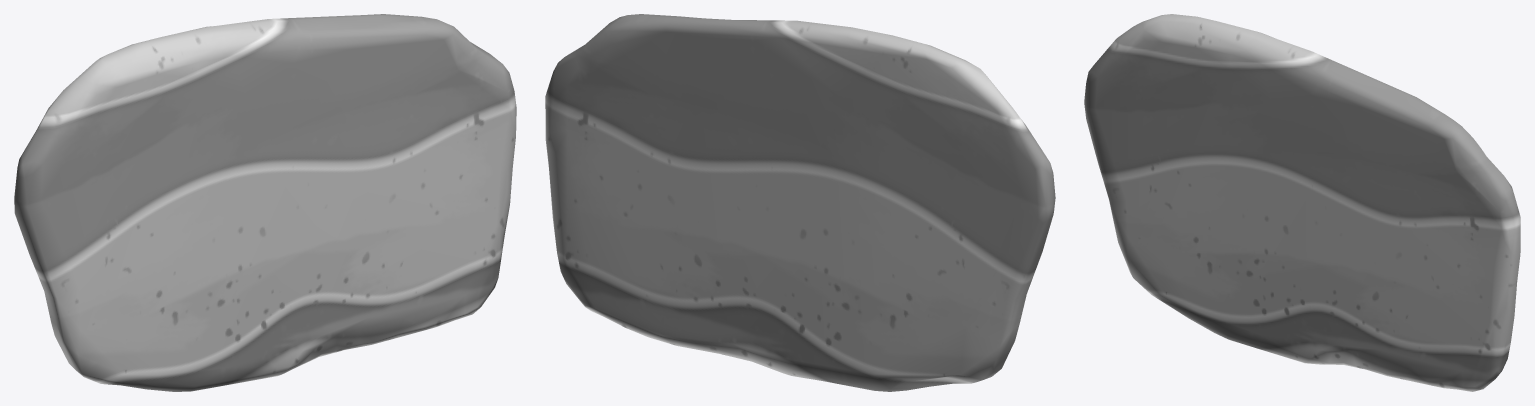
The model's file is SM_UI_BGLobby_Rules.fbx.
3 views of the same model, side by side, from view 1: azimuth 30°, elevation 25°; view 2: azimuth 150°, elevation 25°; view 3: azimuth 330°, elevation 25° (orthographic). The views are drawn at different scales.
Visible parts, largest first — view 1: SM_UI_BGLobby_Rules; view 2: SM_UI_BGLobby_Rules; view 3: SM_UI_BGLobby_Rules.
Boxes of the visible parts, box(x1,y1,x2,y2) form: SM_UI_BGLobby_Rules: box(14, 14, 516, 391); SM_UI_BGLobby_Rules: box(545, 14, 1055, 391); SM_UI_BGLobby_Rules: box(1084, 14, 1520, 391).
Bounding box in the file's own units: 44.64 × 30.78 × 2.69.
